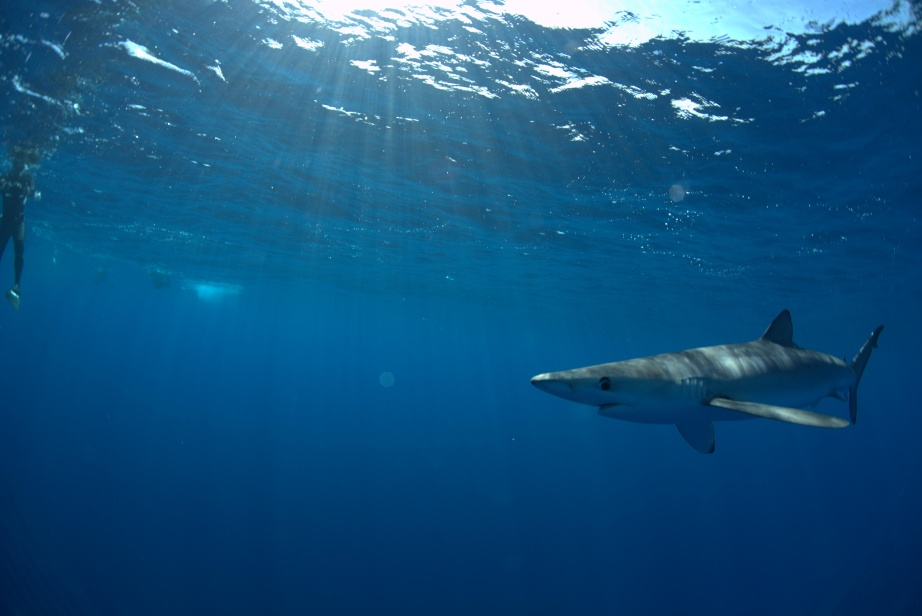Azul: (517, 293, 912, 477)
